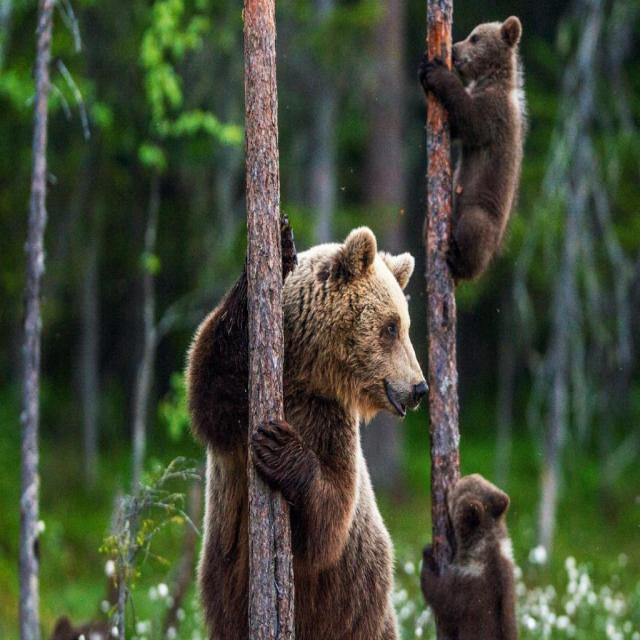Bear: (186, 228, 429, 640), (419, 16, 528, 288), (423, 475, 520, 640)
